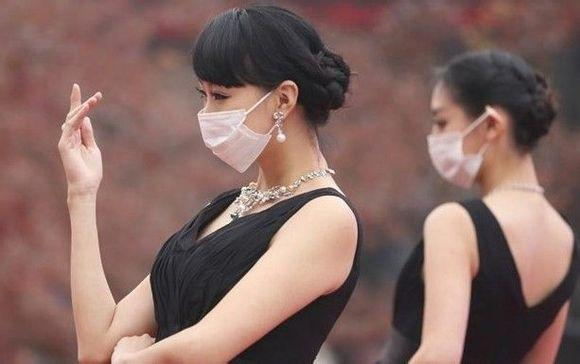OK: (198, 81, 287, 169), (428, 107, 510, 188)
